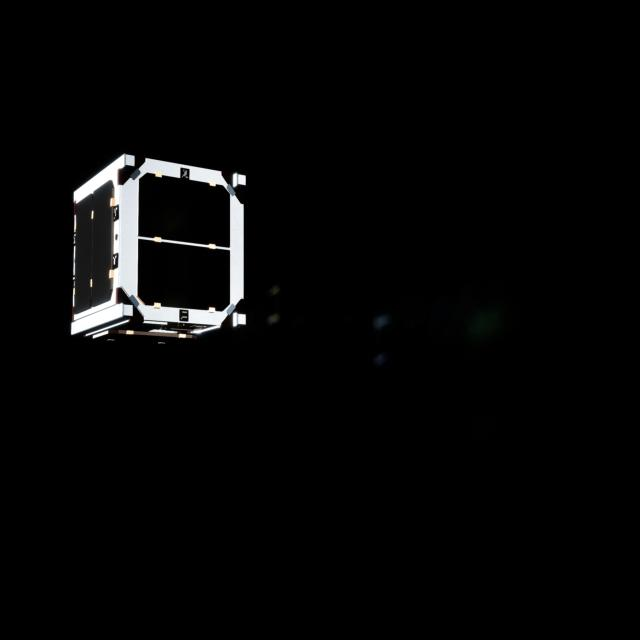medium_debris: (66, 147, 262, 350)
